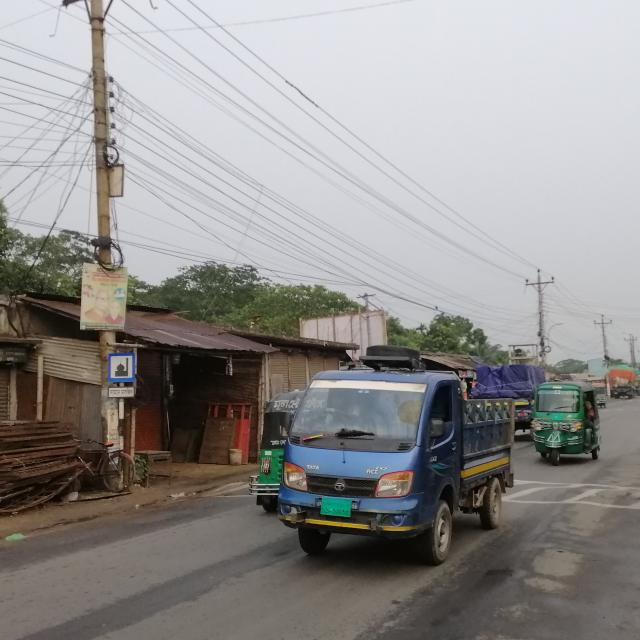CNG: (528, 379, 603, 466)
Pick-up-van: (281, 346, 526, 572)
